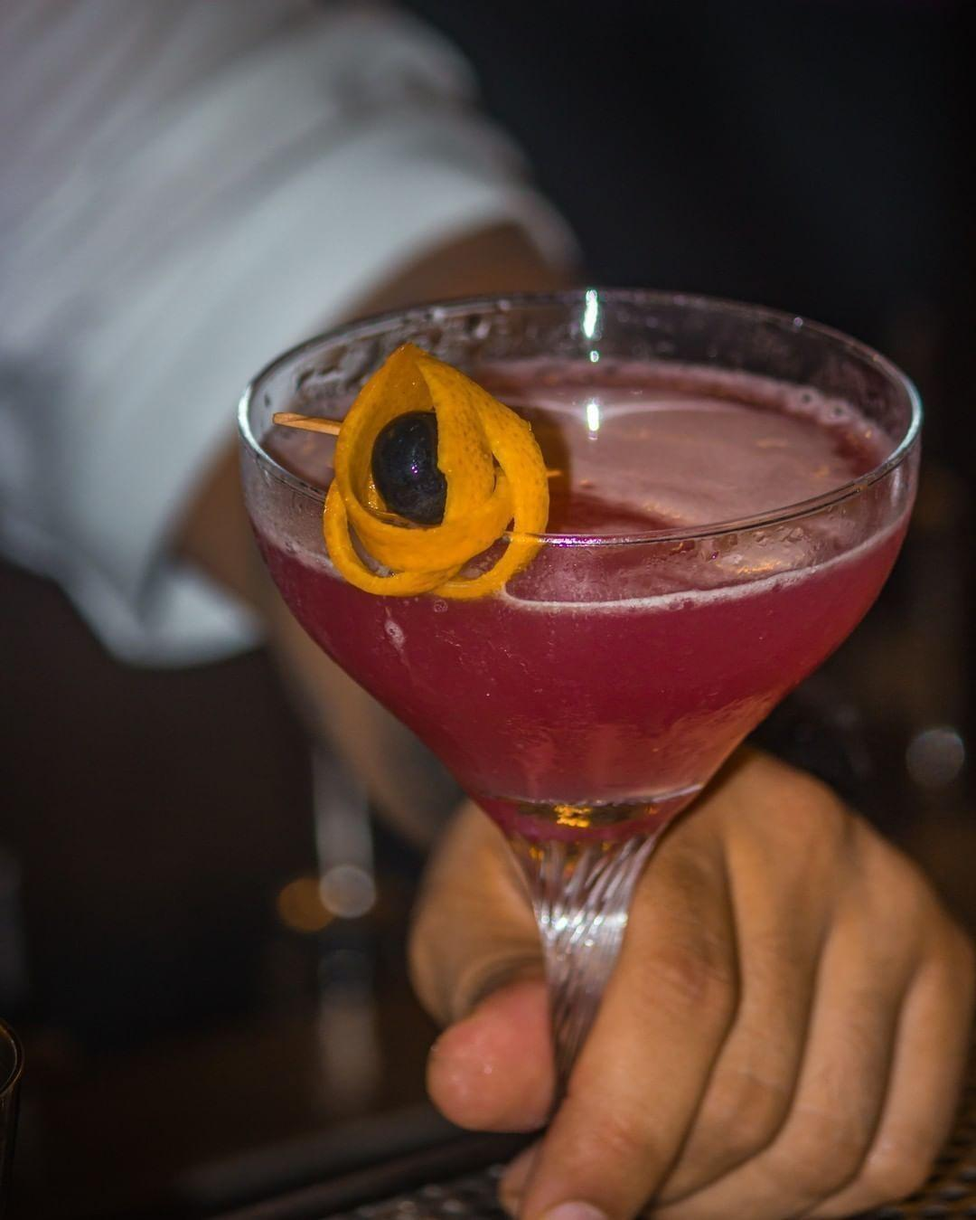glass-wine: (227, 269, 953, 1220)
